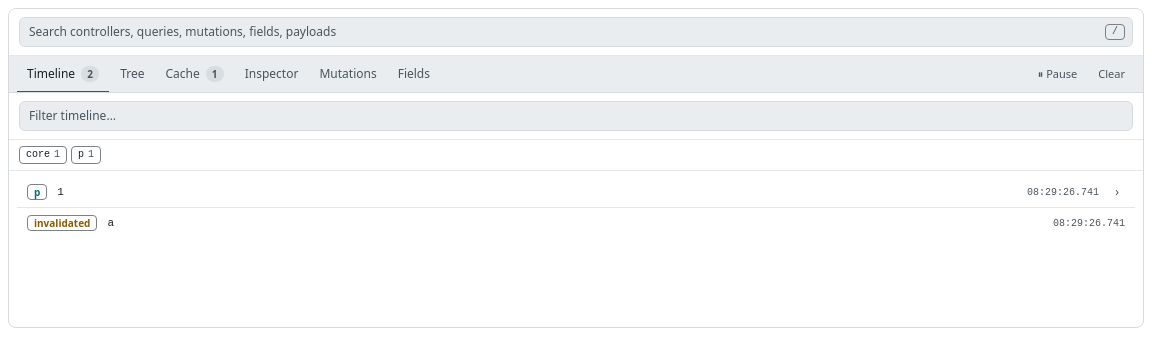
Scenario: plugin lanes — T8.8 › with every lane hidden the timeline says so
Click the button "core 1".
click(43, 155)  # box [19,146,67,164]
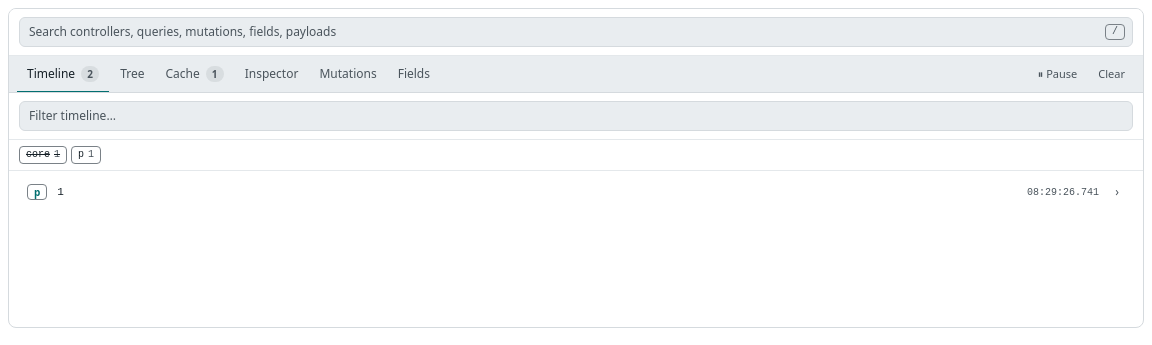
Click the button "p 1".
click(86, 155)  # box [71,146,101,164]
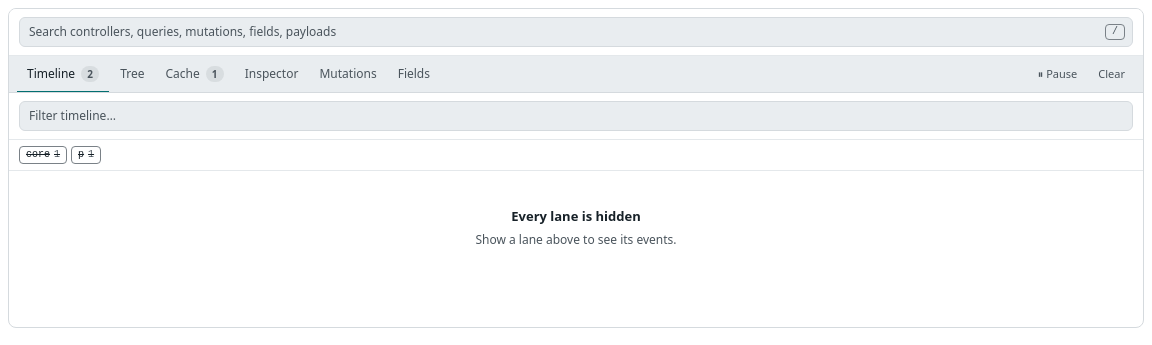
Check: the panel shows "Every lane is hidden", box [511,207,641,225]
